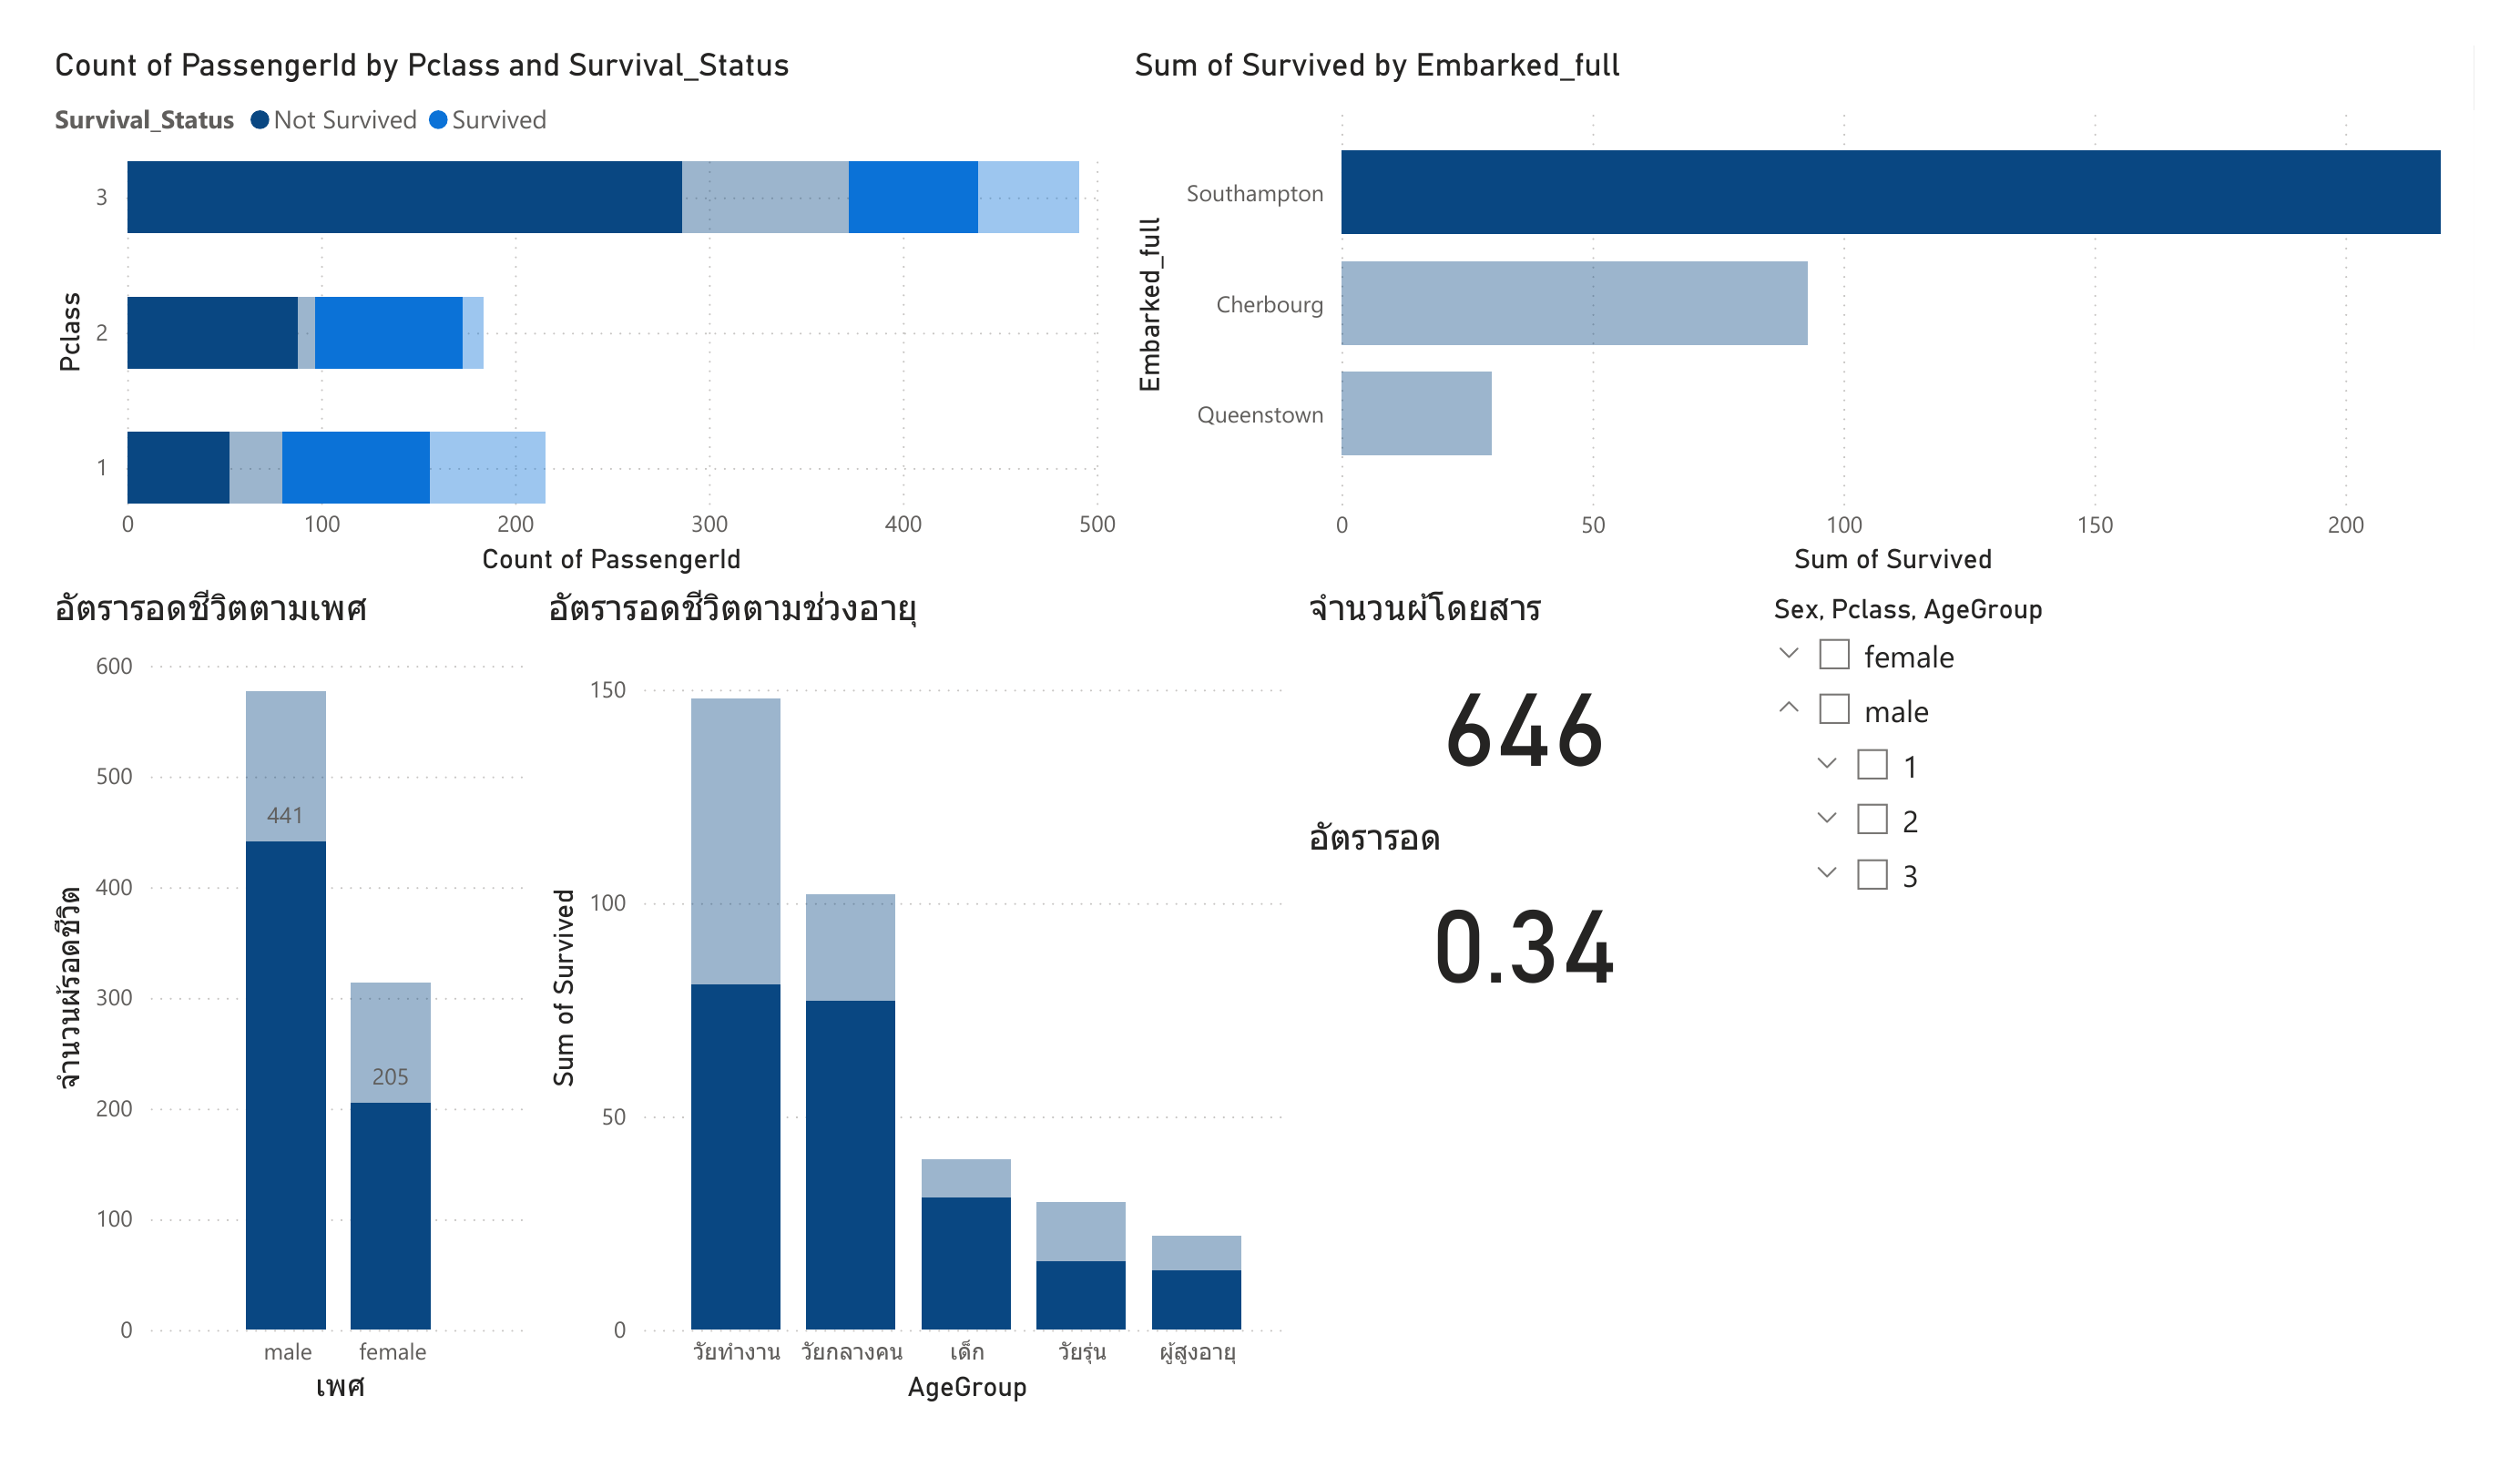

What the dashboard file says about the page in this screenshot:
{"tool":"powerbi","page":{"name":"Page 1","canvas":[1280,720],"ordinal":0},"visuals":[{"type":"columnChart","title":"อัตรารอดชีวิตตามเพศ","fields":{"Category":["titanic_cleaned.Sex"],"Y":["CountNonNull(titanic_cleaned.Survival_Status)"]},"box":[0,284,259.7,435.7],"z":0},{"type":"columnChart","title":"อัตรารอดชีวิตตามช่วงอายุ","fields":{"Category":["titanic_cleaned.AgeGroup"],"Y":["Sum(titanic_cleaned.Survived)"]},"box":[259.7,284,401.7,435.7],"z":1000},{"type":"barChart","fields":{"Category":["titanic_cleaned.Pclass"],"Series":["titanic_cleaned.Survival_Status"],"Y":["CountNonNull(titanic_cleaned.PassengerId)"]},"box":[0,0,569,284],"z":2000},{"type":"barChart","fields":{"Category":["titanic_cleaned.Embarked_full"],"Y":["Sum(titanic_cleaned.Survived)"]},"box":[569,0,711,284],"z":3000},{"type":"card","title":"จำนวนผ้โดยสาร","fields":{"Values":["CountNonNull(titanic_cleaned.PassengerId)"]},"box":[661.4,284,236.4,120.6],"z":3001},{"type":"card","title":"อัตรารอด","fields":{"Values":["Avg(titanic_cleaned.Survived)"]},"box":[661.4,404.6,236.4,107],"z":3002},{"type":"slicer","fields":{"Values":["titanic_cleaned.Sex","titanic_cleaned.Pclass","titanic_cleaned.AgeGroup"]},"box":[897.8,284,193.6,227.6],"z":3003}]}

Visuals, with their boxes on the page's 1280x720 design canvas (x1, y1, x2, y2). These are canvas units, not pixel positions in the 2520x1457 screenshot, which may show the page scaled, cropped or inside an application window:
"อัตรารอดชีวิตตามเพศ" columnChart: bbox(0, 284, 260, 720)
"อัตรารอดชีวิตตามช่วงอายุ" columnChart: bbox(260, 284, 661, 720)
barChart - titanic_cleaned.Pclass x titanic_cleaned.Survival_Status: bbox(0, 0, 569, 284)
barChart - titanic_cleaned.Embarked_full x Sum(titanic_cleaned.Survived): bbox(569, 0, 1280, 284)
"จำนวนผ้โดยสาร" card: bbox(661, 284, 898, 405)
"อัตรารอด" card: bbox(661, 405, 898, 512)
slicer - titanic_cleaned.Sex x titanic_cleaned.Pclass: bbox(898, 284, 1091, 512)
